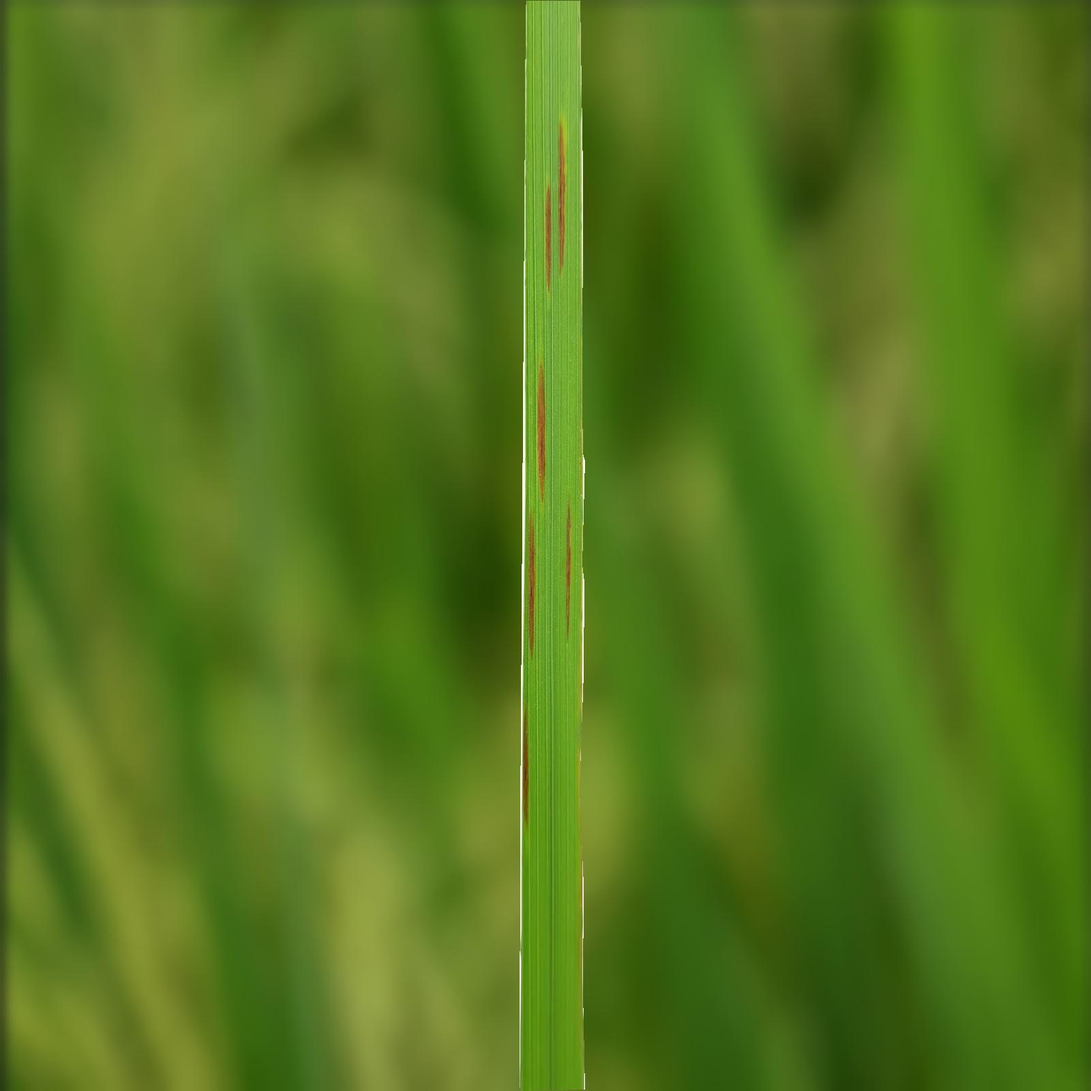LEAF: (520, 1, 585, 1090)
NBS: (537, 359, 546, 499), (528, 518, 535, 657), (559, 121, 565, 279), (565, 505, 571, 643), (522, 706, 528, 824), (546, 183, 551, 289)
